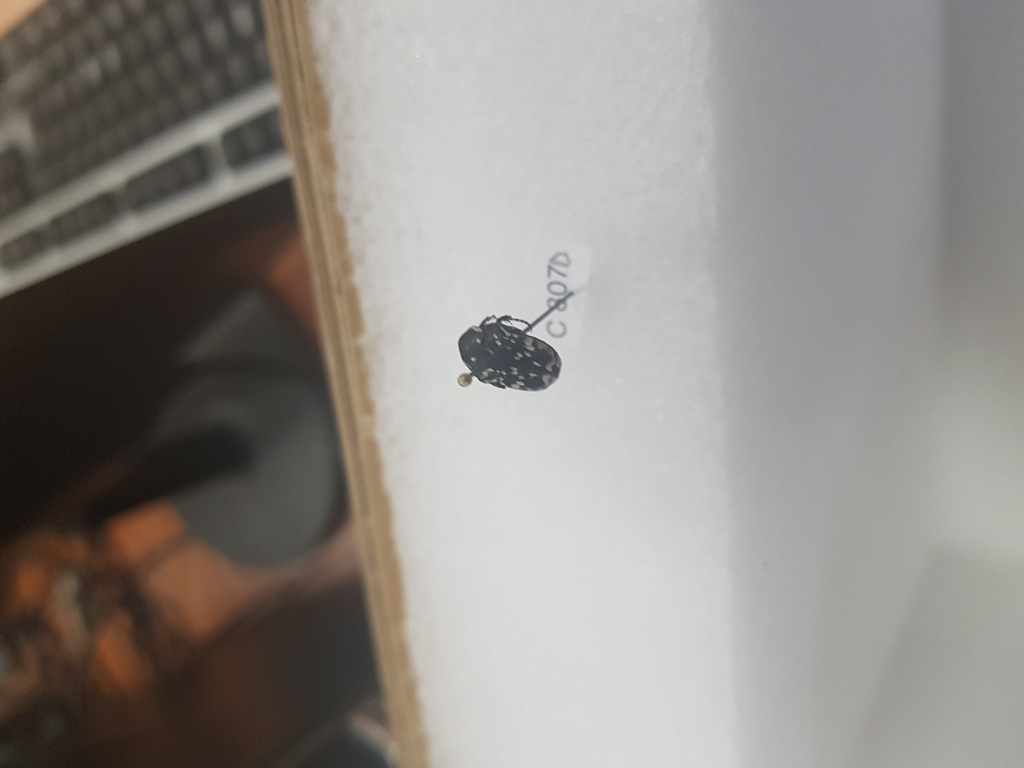Oxythyrea_albopicta: (454, 312, 563, 401)
